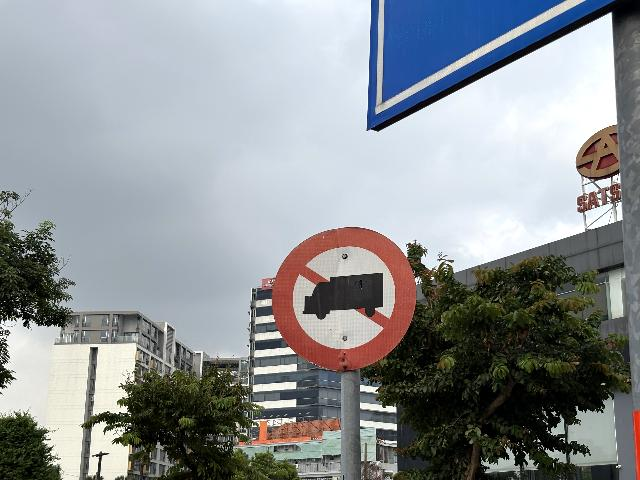cam-xe-tai: (271, 225, 415, 370)
